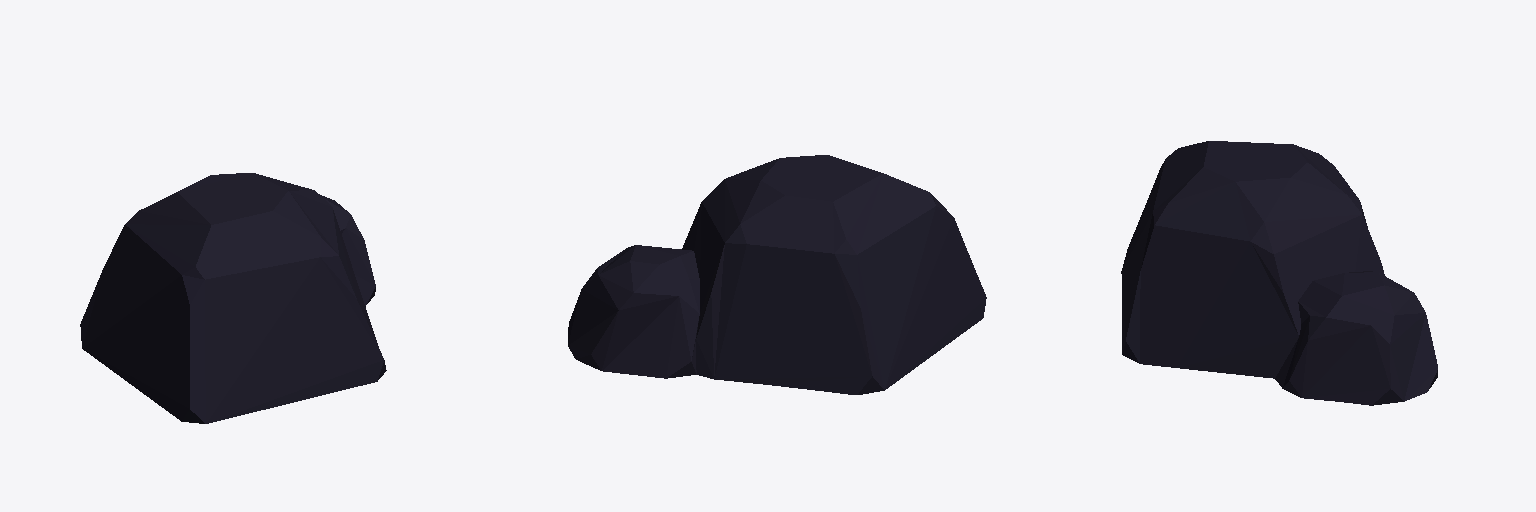
File: rock_01.obj
3 renders of one model, left to right at view 1: azimuth 30°, elevation 25°; view 2: azimuth 150°, elevation 25°; view 3: azimuth 270°, elevation 25°, orthographic.
Parts seen in each view (by area): view 1: rock_01; view 2: rock_01; view 3: rock_01.
Boxes of the visible parts, box(x1,y1,x2,y2) form: rock_01: box(80, 173, 386, 423); rock_01: box(568, 155, 986, 394); rock_01: box(1121, 141, 1437, 405).
Bounding box in the file's own units: 2.87 × 1.5 × 2.71.